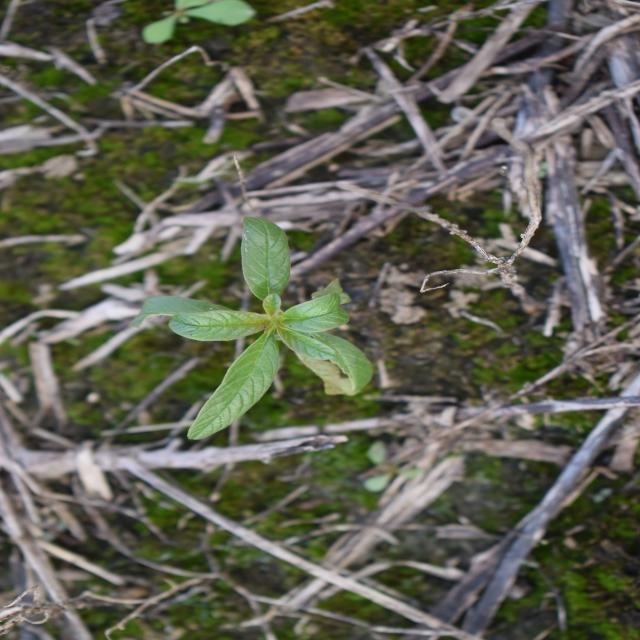Waterhemp: (128, 214, 376, 442)
